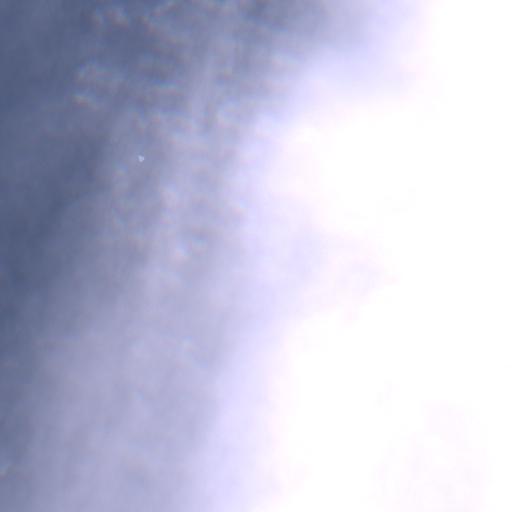Iceberg: (139, 156, 143, 160)
